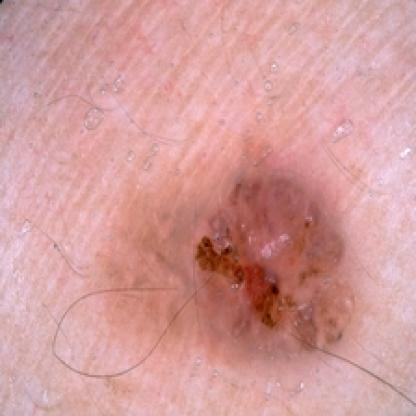Skin_Cancer-Malignant: (192, 174, 363, 359)
